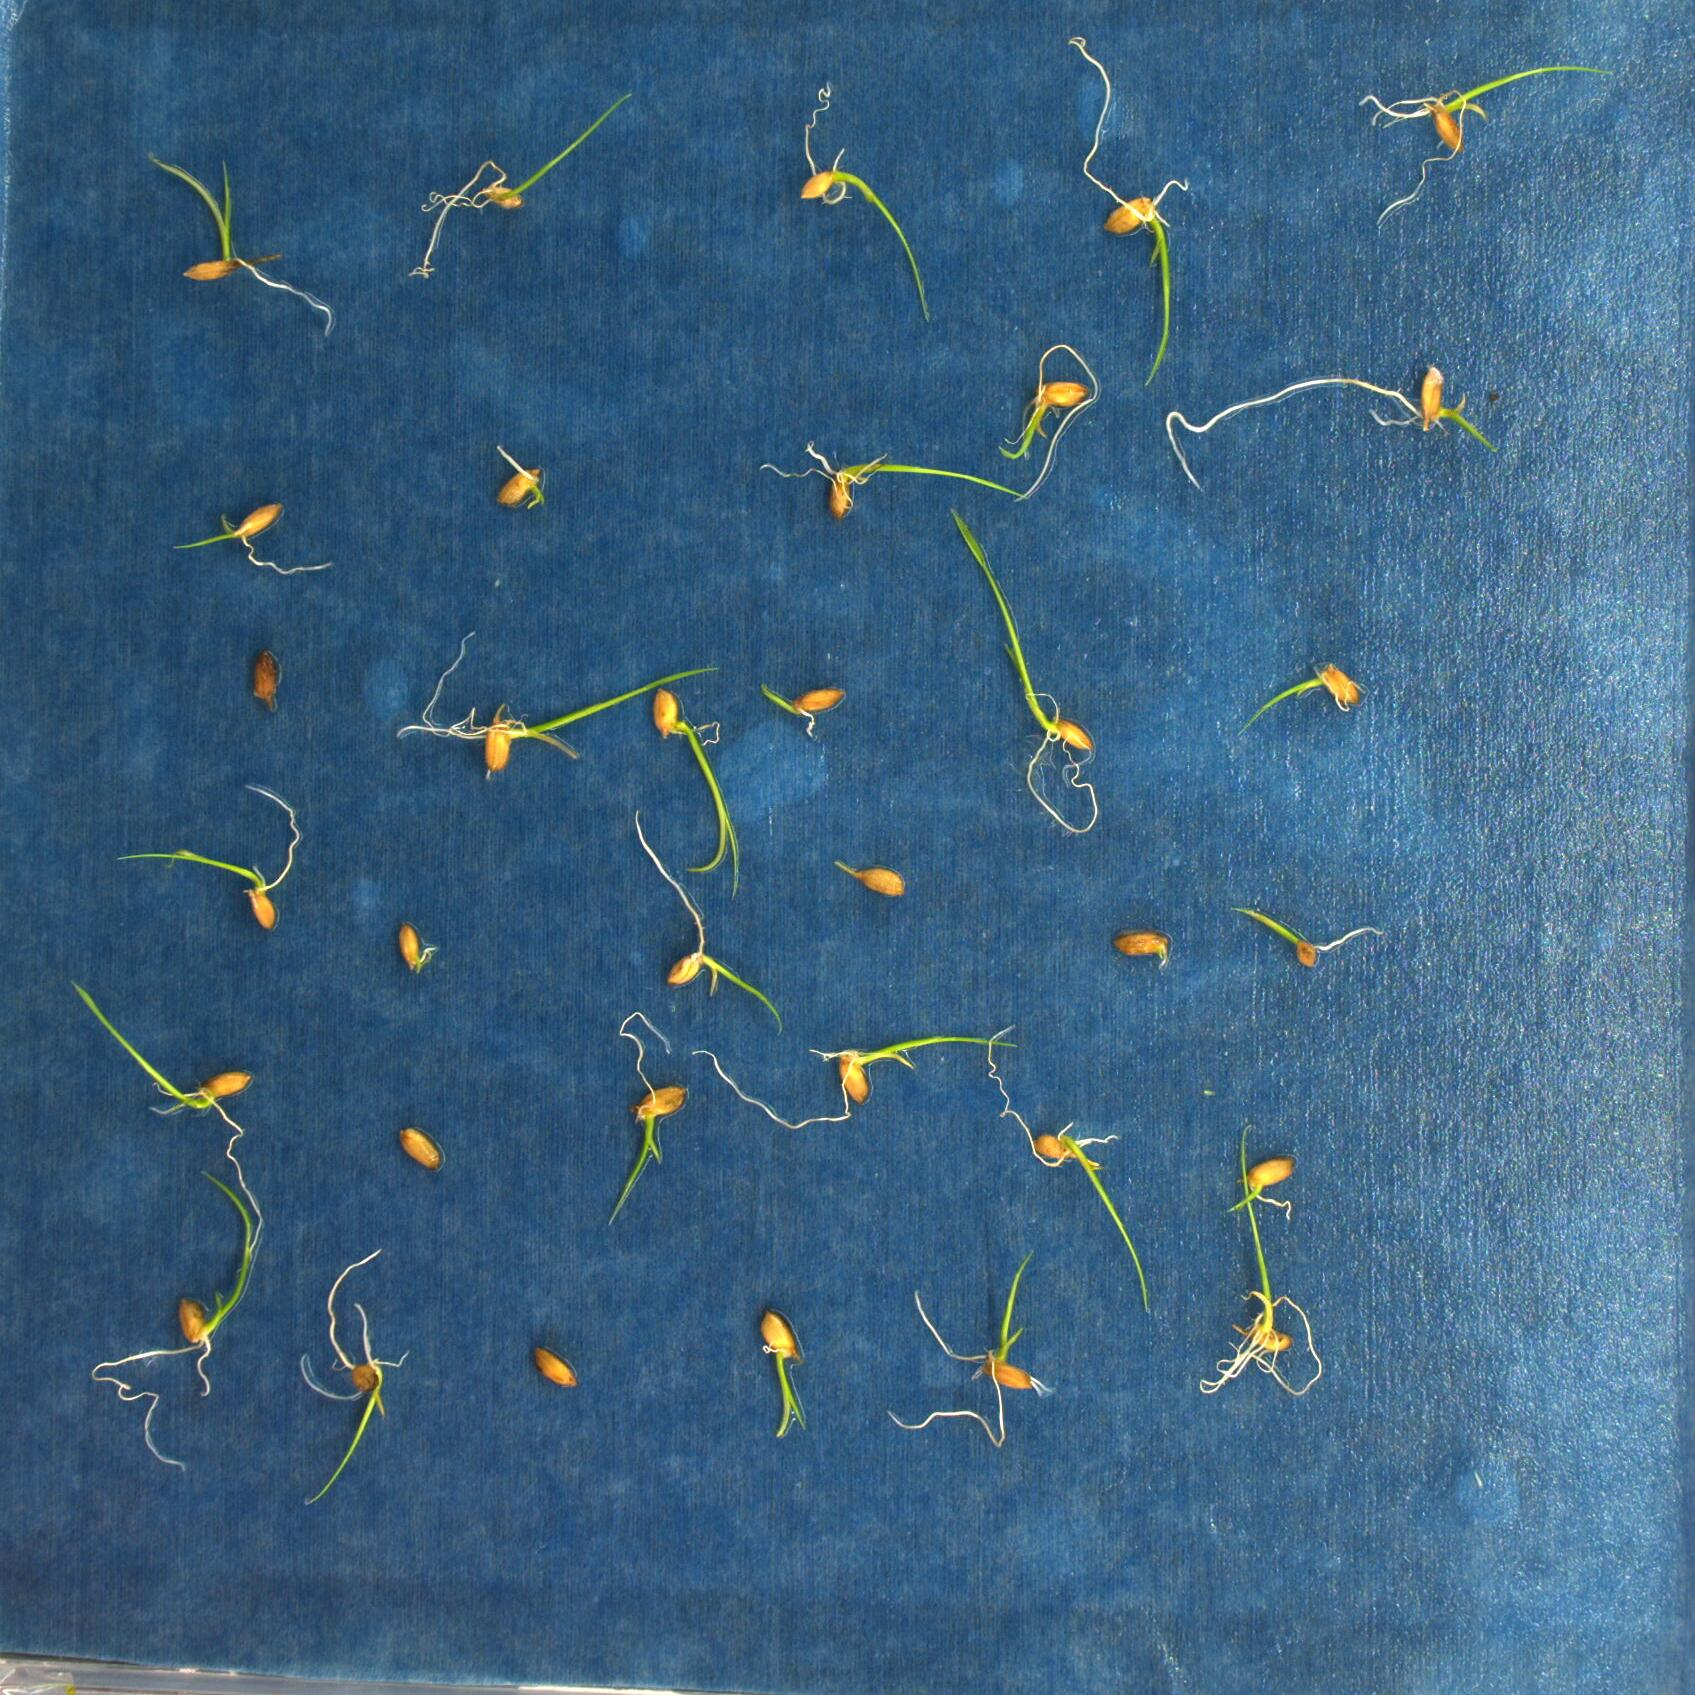not sprout: (1107, 927, 1186, 978), (830, 849, 906, 900), (244, 633, 290, 716), (382, 917, 444, 976), (391, 1118, 447, 1170), (528, 1340, 577, 1394)
sprout: (67, 1172, 282, 1478), (64, 981, 269, 1263), (944, 500, 1108, 849), (979, 1023, 1158, 1310), (386, 618, 722, 770), (1062, 29, 1191, 385), (402, 90, 646, 276), (137, 141, 348, 349), (1364, 57, 1611, 234), (1163, 366, 1515, 481), (889, 1240, 1069, 1451), (793, 75, 941, 329), (685, 1029, 1024, 1138), (287, 1245, 425, 1512), (632, 809, 785, 1035), (115, 775, 315, 941), (1205, 1122, 1313, 1406), (751, 441, 1040, 528), (640, 685, 757, 886), (604, 1004, 706, 1234), (995, 343, 1101, 498), (179, 489, 334, 584), (1232, 900, 1397, 970), (1237, 653, 1366, 737), (753, 1309, 823, 1450), (1220, 1155, 1315, 1225), (757, 667, 844, 740), (489, 445, 551, 522)
